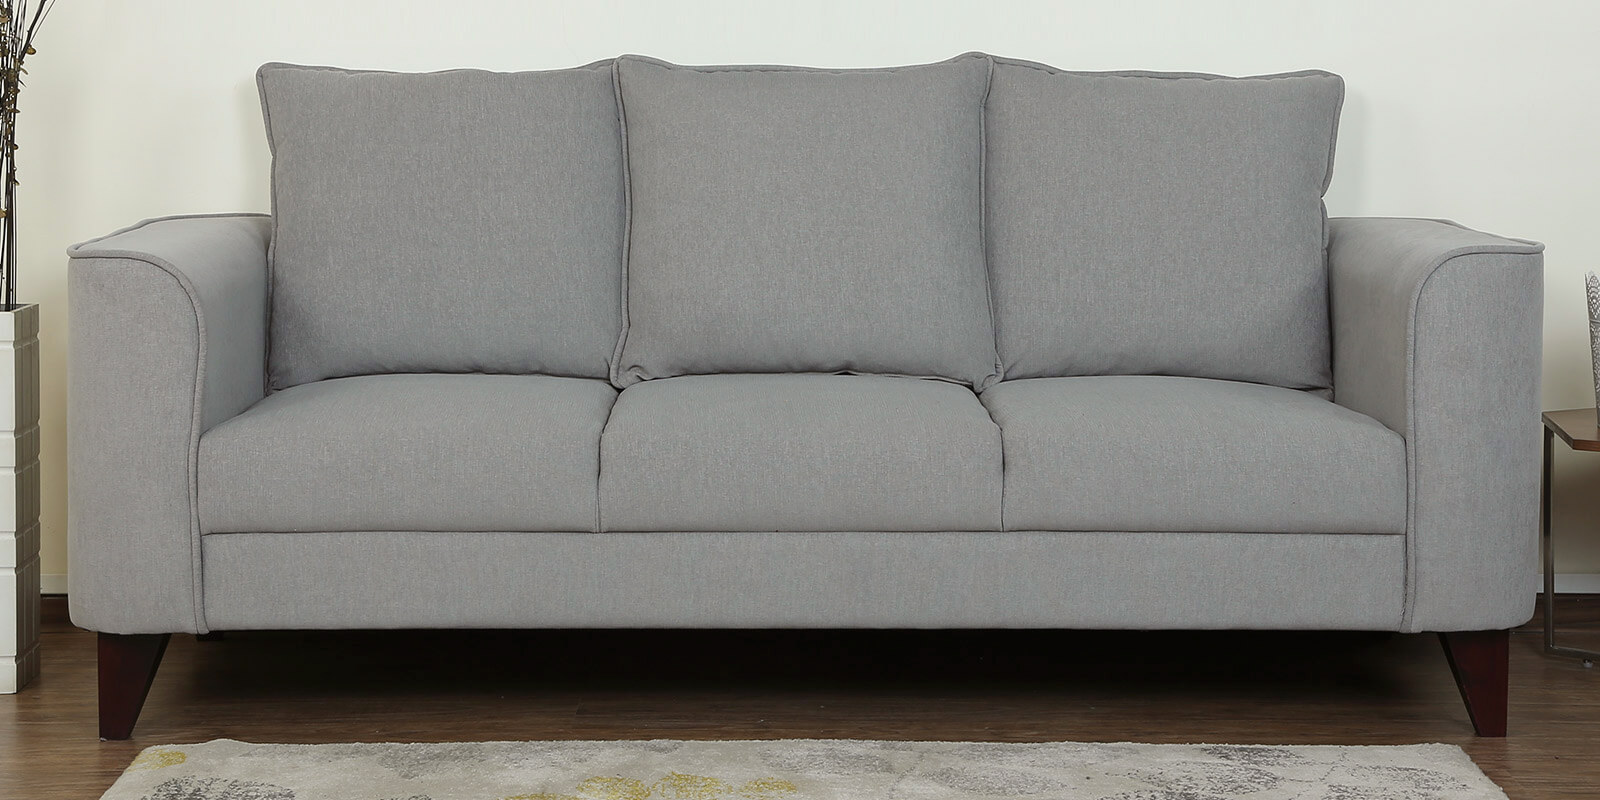Lara Three Seater Sofa in Ash Grey Colour by CasaCraft: (66, 50, 1545, 743)
